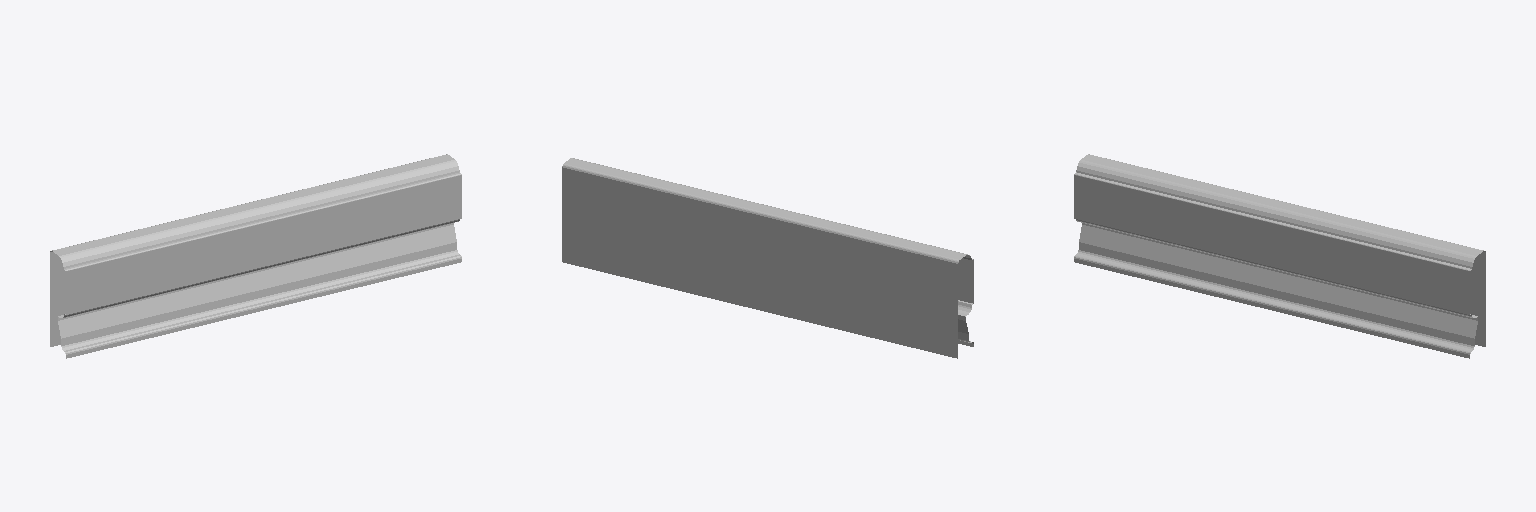
The model's file is original-41.obj.
3 views of the same model, side by side, from view 1: azimuth 30°, elevation 25°; view 2: azimuth 150°, elevation 25°; view 3: azimuth 330°, elevation 25° (orthographic).
Visible parts, largest first — view 1: DF_11_TC1/DF_11_TC/mesh28/mesh28-geometry#mesh28-geometry; view 2: DF_11_TC1/DF_11_TC/mesh28/mesh28-geometry#mesh28-geometry; view 3: DF_11_TC1/DF_11_TC/mesh28/mesh28-geometry#mesh28-geometry.
Part boxes in pixels (bbox=[...]): DF_11_TC1/DF_11_TC/mesh28/mesh28-geometry#mesh28-geometry: bbox=[50, 154, 461, 358]; DF_11_TC1/DF_11_TC/mesh28/mesh28-geometry#mesh28-geometry: bbox=[562, 158, 973, 358]; DF_11_TC1/DF_11_TC/mesh28/mesh28-geometry#mesh28-geometry: bbox=[1074, 154, 1485, 358].
Bounding box in the file's own units: 0.3955 × 0.0933 × 0.027.